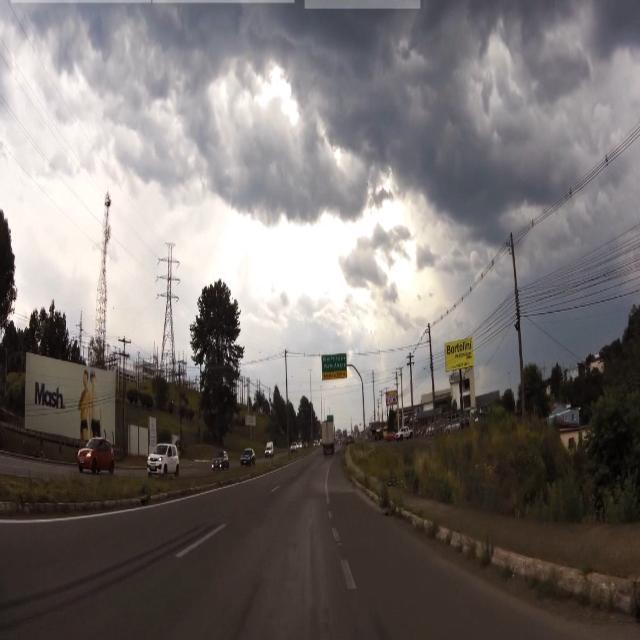I-4: (322, 354, 347, 371)
